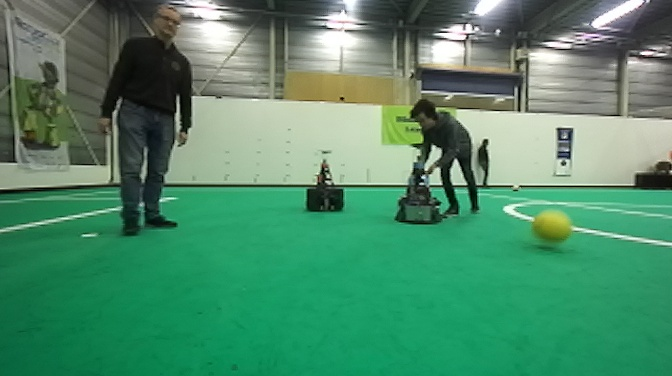ball: (529, 205, 573, 253), (509, 181, 523, 194)
human: (99, 3, 195, 238), (407, 96, 482, 218), (473, 133, 495, 189)
robot: (396, 141, 447, 225), (306, 148, 347, 212)
